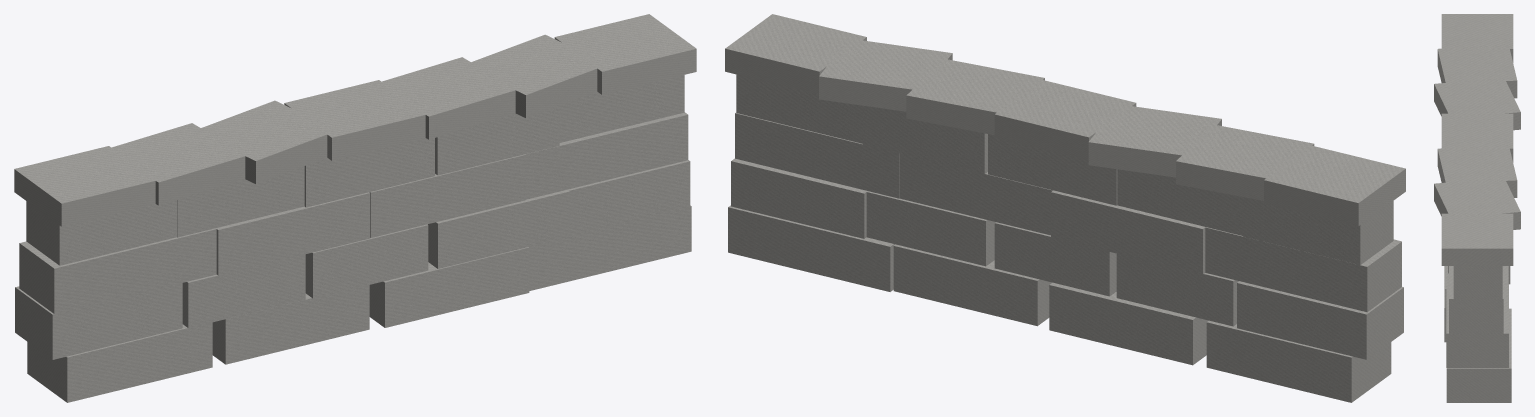
Rendered from andean-terraces-and-stone-village-stone-wall-module-9068686d__38243.glb.
3 renders of one model, left to right at view 1: azimuth 30°, elevation 25°; view 2: azimuth 150°, elevation 25°; view 3: azimuth 270°, elevation 25°, orthographic. The views are drawn at different scales.
Visible parts, largest first — view 1: stone-wall-module-stone; view 2: stone-wall-module-stone; view 3: stone-wall-module-stone.
Boxes of the visible parts, x1,y1,x2,y2 form: stone-wall-module-stone: (14, 14, 696, 402); stone-wall-module-stone: (725, 14, 1405, 402); stone-wall-module-stone: (1434, 14, 1520, 402).
Size of the model in its own units: 4.04 by 1.24 by 0.6288.
Materials: 1 (1 with a texture image).
